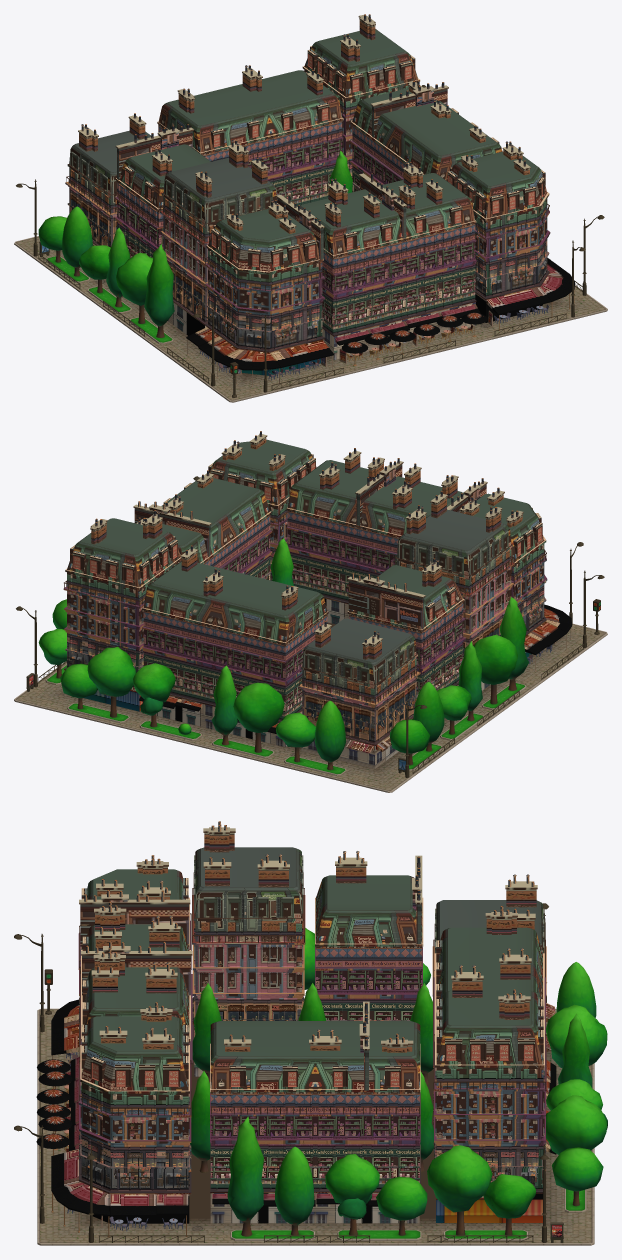
The model's file is map_MK3.glb.
3 views of the same model, one above another, from view 1: azimuth 30°, elevation 25°; view 2: azimuth 150°, elevation 25°; view 3: azimuth 270°, elevation 25° (orthographic). The views are drawn at different scales.
Parts seen in each view (by area): view 1: Object134, Object123, tree, Box103; view 2: Object134, tree, Object123, Box103; view 3: Object134, tree, Object123, Box103.
Boxes of the visible parts, x1,y1,x2,y2 form: Object134: (65, 14, 574, 386); Object123: (14, 85, 607, 402); tree: (38, 151, 352, 337); Box103: (168, 293, 542, 375); Object134: (63, 431, 571, 753); tree: (38, 538, 528, 770); Object123: (14, 476, 607, 792); Box103: (83, 598, 531, 768); Object134: (36, 821, 556, 1237); tree: (190, 928, 607, 1236); Object123: (14, 903, 594, 1245); Box103: (88, 1062, 542, 1223).
Size of the model in its own units: 51.51 by 20.94 by 50.66.
Materials: 3 (3 with a texture image).
